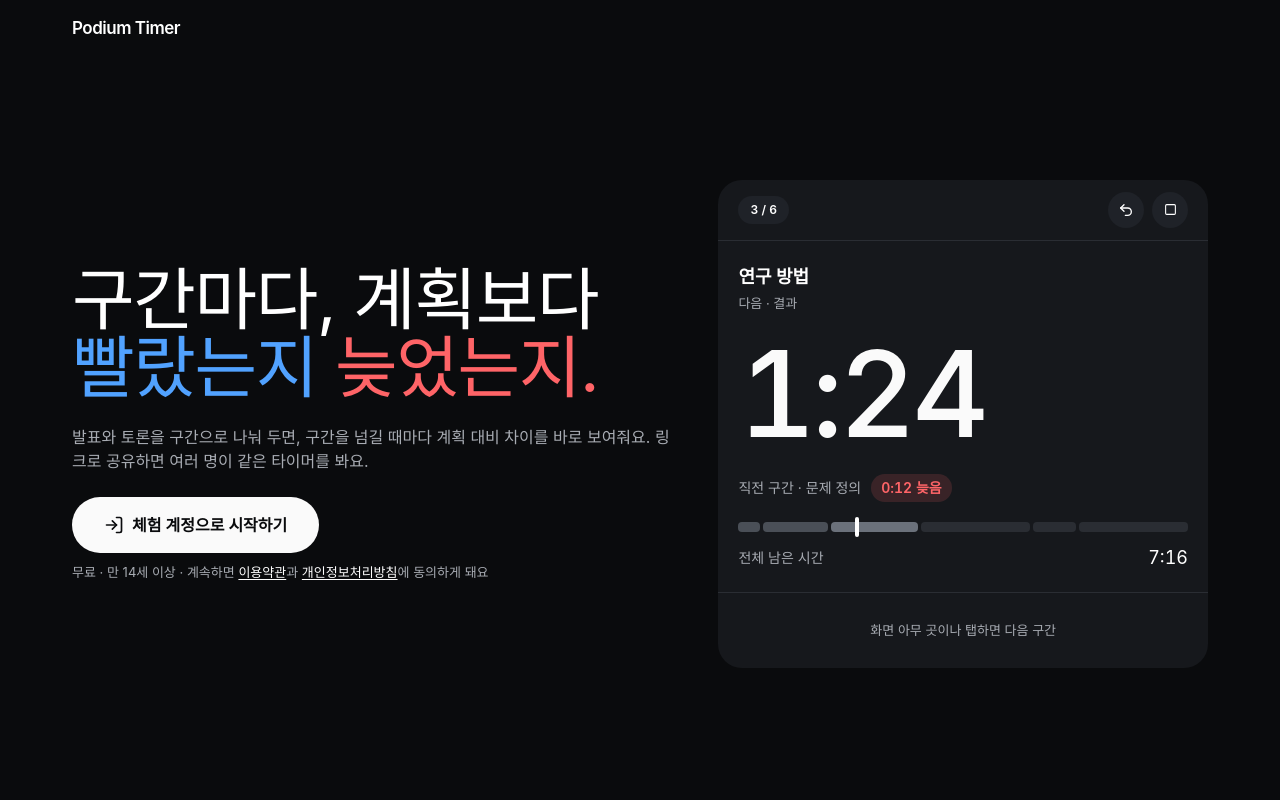
Test: Landing › waits for sign-in before navigating
The image size is (1280, 800).
Click the button "체험 계정으로 시작하기": (196, 525) [72,497,319,553]
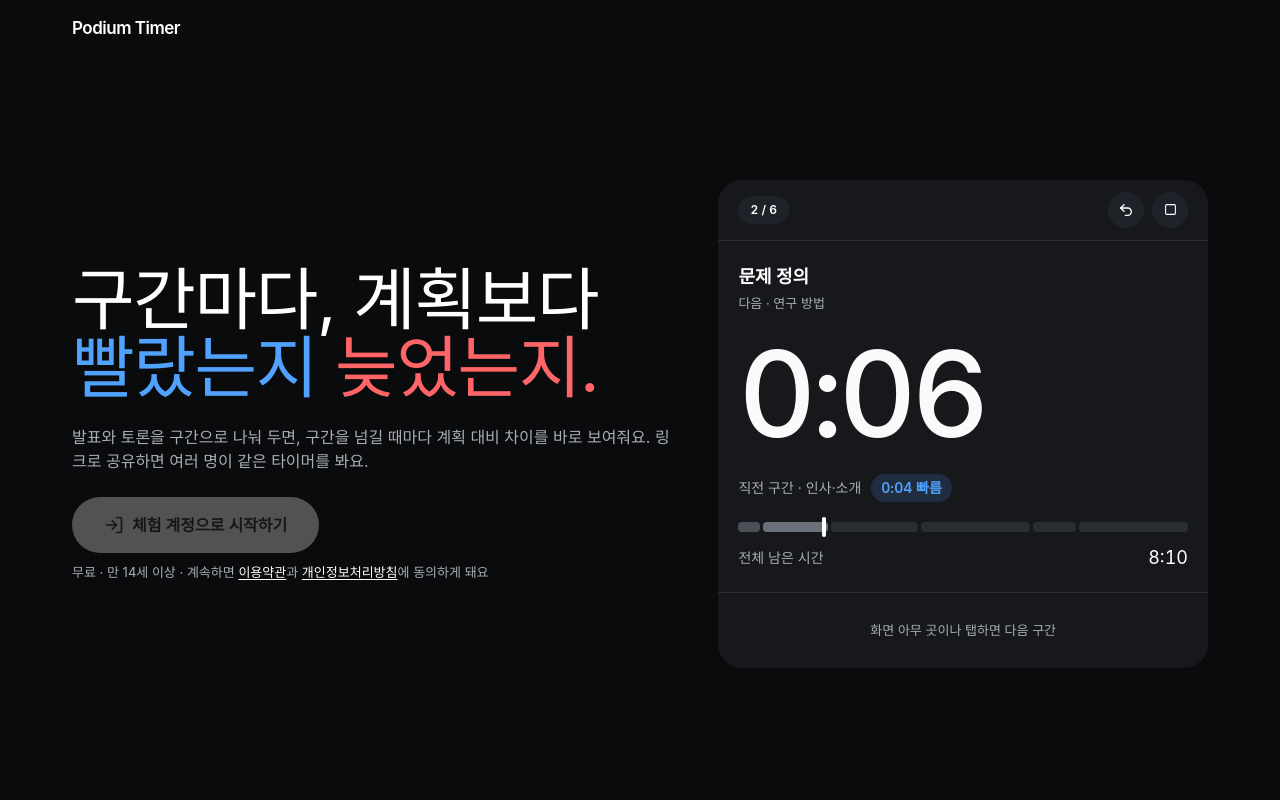
Check: the button "체험 계정으로 시작하기" is disabled, box [72,497,319,553]
